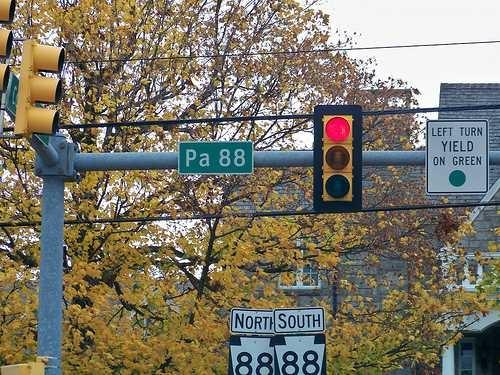red: (316, 110, 362, 209), (322, 115, 353, 145)
